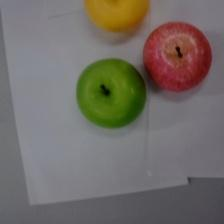green: (77, 59, 146, 129)
red: (144, 22, 212, 92)
yellow: (80, 0, 150, 35)
